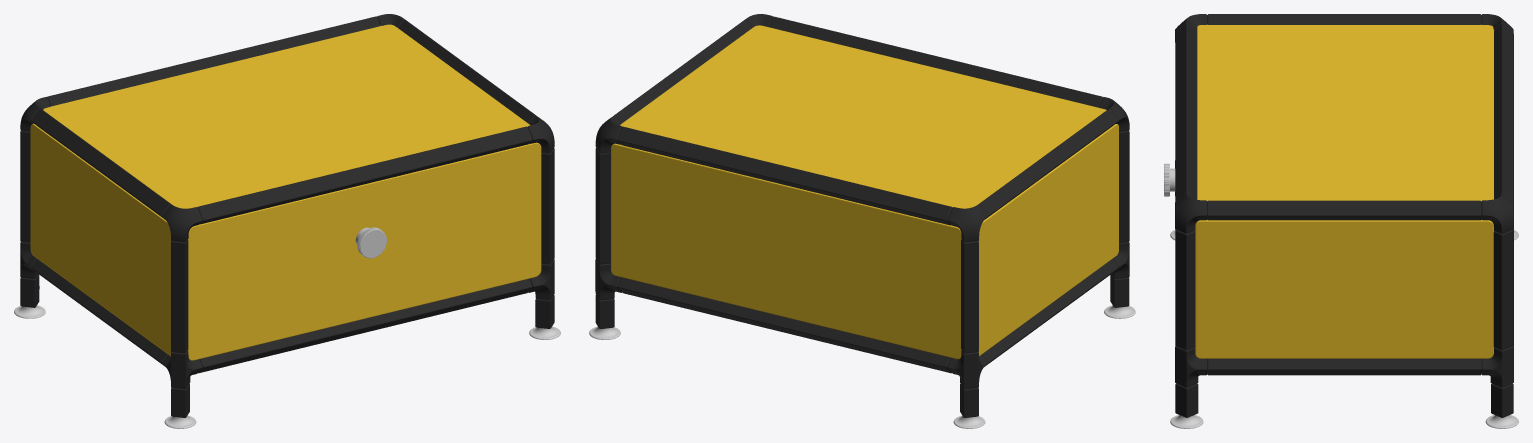
3 views of the same model, side by side, from view 1: azimuth 30°, elevation 25°; view 2: azimuth 150°, elevation 25°; view 3: azimuth 270°, elevation 25° (orthographic). The views are drawn at different scales.
Visible parts, largest first — view 1: 479x329x154; view 2: 479x329x154; view 3: 479x329x154.
Part boxes in pixels (left/top/right/bottom): 479x329x154: left=14, top=14, right=560, bottom=428; 479x329x154: left=589, top=14, right=1135, bottom=428; 479x329x154: left=1164, top=14, right=1518, bottom=428.
Bounding box in the file's own units: 0.5689 × 0.2933 × 0.4257.
